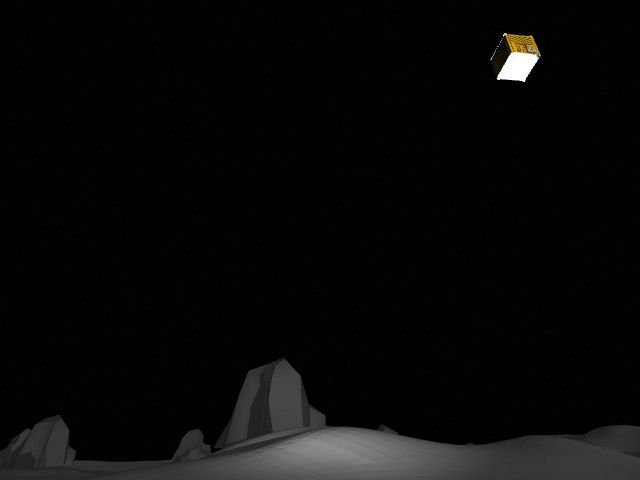cubesat: (487, 27, 544, 90)
